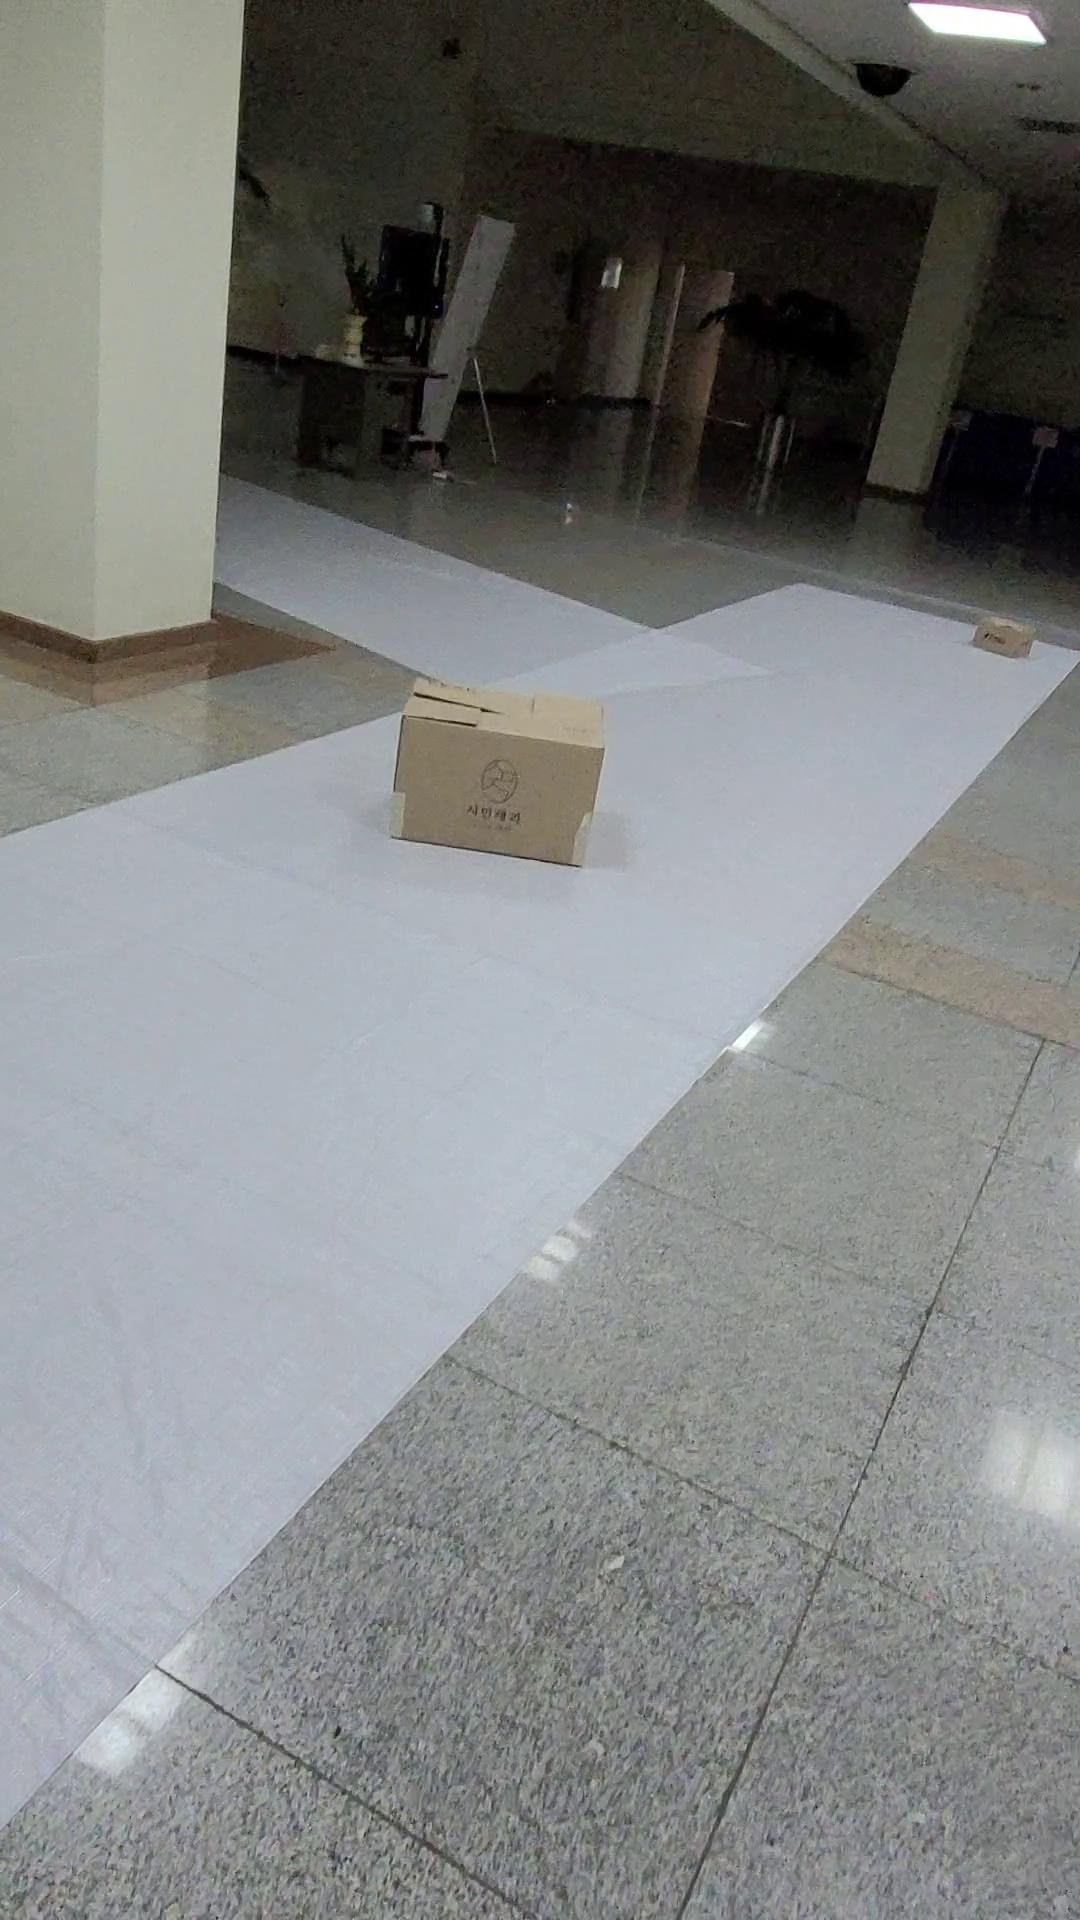Box: (363, 655, 620, 916), (936, 595, 1052, 673)
